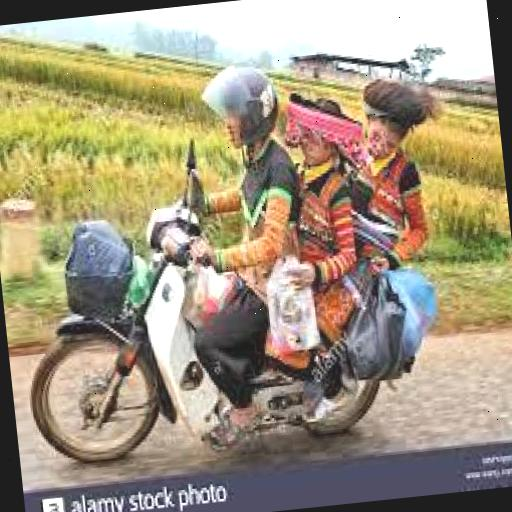helmet: (190, 61, 282, 193)
triple riding: (0, 28, 458, 481)
